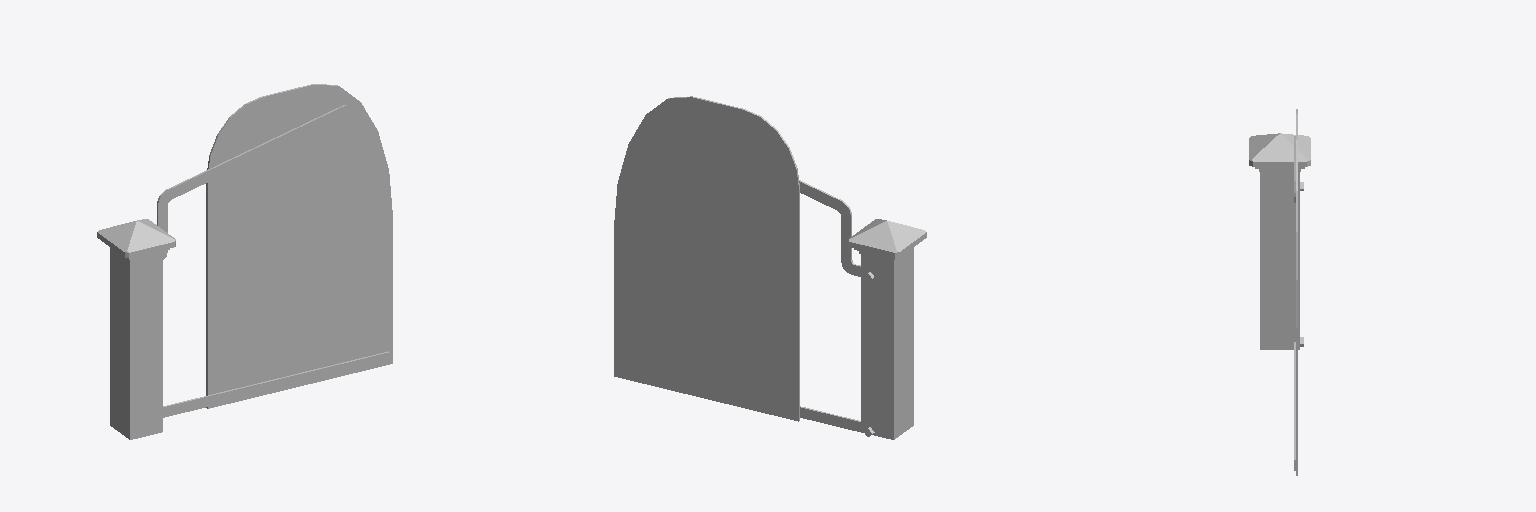
The model's file is lms_semaphore_backplate_top.obj.
The picture shows the model from 3 angles: view 1: azimuth 30°, elevation 25°; view 2: azimuth 150°, elevation 25°; view 3: azimuth 270°, elevation 25°; orthographic projection.
Parts seen in each view (by area): view 1: top_w_accessory_Cube.022; view 2: top_w_accessory_Cube.022; view 3: top_w_accessory_Cube.022.
Part boxes in pixels (left/top/right/bottom): top_w_accessory_Cube.022: left=97, top=84, right=392, bottom=439; top_w_accessory_Cube.022: left=614, top=96, right=926, bottom=439; top_w_accessory_Cube.022: left=1249, top=109, right=1310, bottom=475.
Size of the model in its own units: 1.46 by 1.43 by 0.2667.